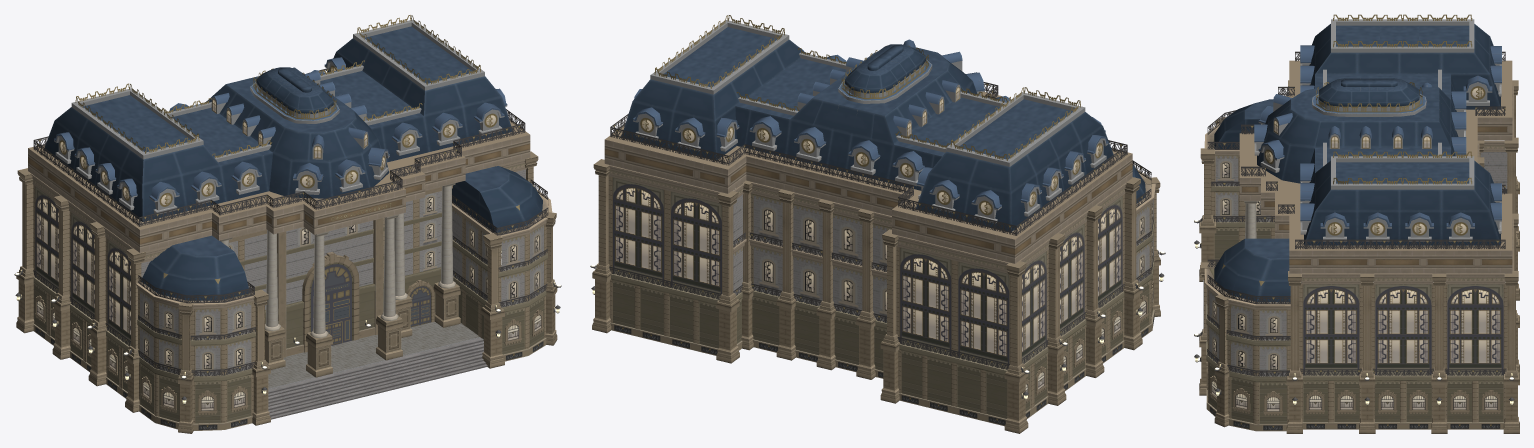
Rendered from t1_b_bank.glb.
The picture shows the model from 3 angles, left to right: view 1: azimuth 30°, elevation 25°; view 2: azimuth 150°, elevation 25°; view 3: azimuth 270°, elevation 25°; orthographic projection. The views are drawn at different scales.
Parts seen in each view (by area): view 1: t1_b_bank.001; view 2: t1_b_bank.001; view 3: t1_b_bank.001.
Part boxes in pixels (<box>): t1_b_bank.001: <box>14,15,561,433</box>; t1_b_bank.001: <box>590,15,1165,433</box>; t1_b_bank.001: <box>1194,14,1519,433</box>.
Size of the model in its own units: 61.43 by 36.24 by 41.71.
Materials: 6 (6 with a texture image).
